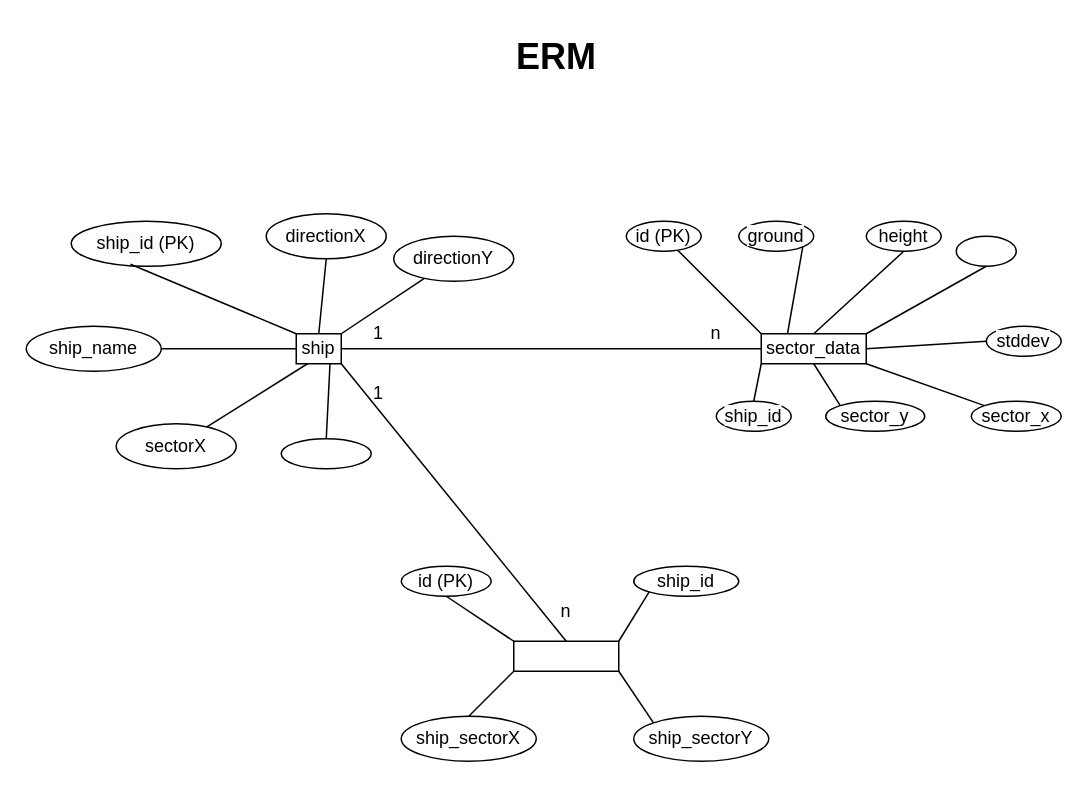
Some shapes in this 1088 by 788 pixel diagram are drawn without their labels. The centre of each missing label's shape, as x and y in pixels:
depth: [985,250]
sectorY: [325,453]
ship_sector: [565,655]
